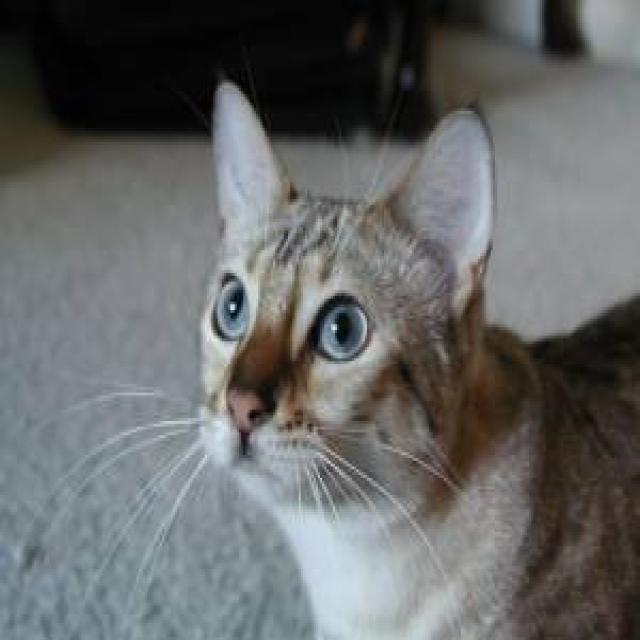Bengal: (196, 77, 493, 503)
